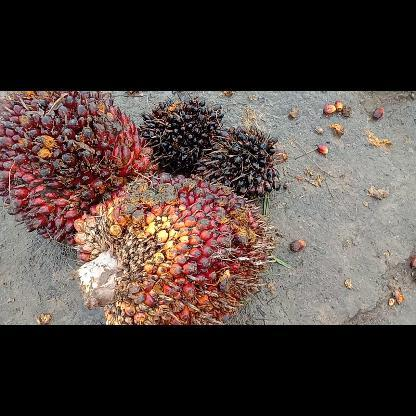TBS abnormal: (136, 96, 226, 174), (194, 121, 284, 196)
TBS masak: (72, 168, 278, 324), (0, 90, 159, 248)
